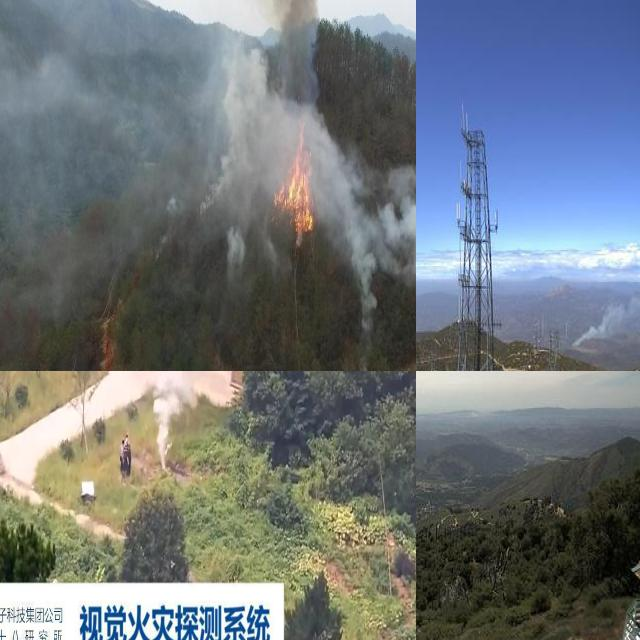fire: (234, 84, 349, 267)
smoke: (0, 0, 416, 307), (147, 371, 236, 466), (568, 287, 640, 352)
